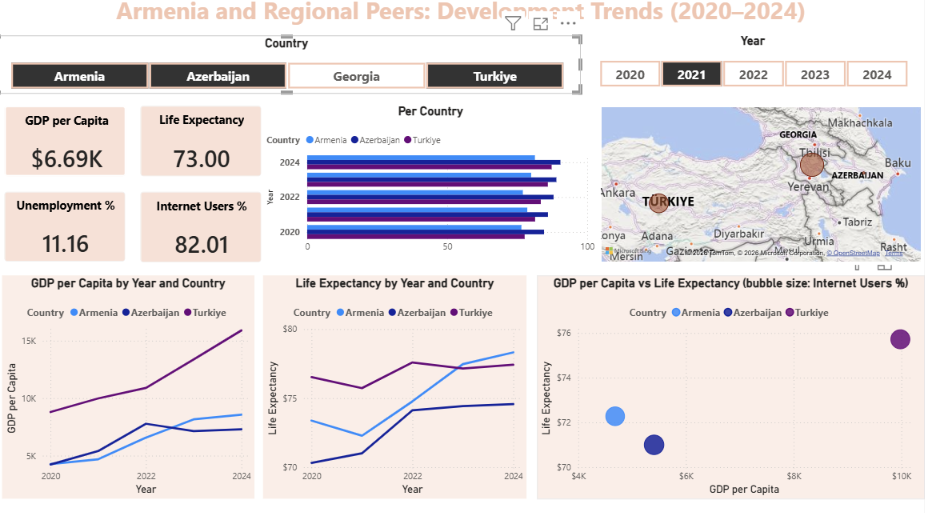

This screenshot's page, from the dashboard's own definition file:
{"tool":"powerbi","page":{"name":"Page 1","canvas":[1280,720],"ordinal":0},"visuals":[{"type":"slicer","title":"Country","fields":{"Values":["World Bank Country Year.country"]},"box":[0,61.7,808.3,80],"z":0},{"type":"slicer","title":"Year","fields":{"Values":["World Bank Country Year.year"]},"box":[808.3,58.3,471.7,80],"z":1000},{"type":"cardVisual","fields":{"Data":["Key Measure.GDP per Capita"]},"box":[0,141.7,201.7,131.7],"z":2000},{"type":"cardVisual","fields":{"Data":["Key Measure.Life Expectancy"]},"box":[186.7,141.7,200,131.7],"z":3000},{"type":"cardVisual","fields":{"Data":["Key Measure.Unemployment %"]},"box":[0,260,200,130],"z":4000},{"type":"cardVisual","fields":{"Data":["Key Measure.Internet Users %"]},"box":[186.7,260,200,131.7],"z":5000},{"type":"lineChart","fields":{"Y":["Key Measure.GDP per Capita"],"Category":["World Bank Country Year.year"],"Series":["World Bank Country Year.country"]},"box":[13.3,391.7,346.7,306.7],"z":6000},{"type":"lineChart","fields":{"Category":["World Bank Country Year.year"],"Y":["Key Measure.Life Expectancy"],"Series":["World Bank Country Year.country"]},"box":[371.7,391.7,361.7,306.7],"z":7000},{"type":"scatterChart","title":"GDP per Capita vs Life Expectancy (bubble size: Internet Users %)","fields":{"X":["Key Measure.GDP per Capita"],"Y":["Key Measure.Life Expectancy"],"Size":["Key Measure.Internet Users %"],"Series":["World Bank Country Year.country"]},"box":[748.3,391.7,531.7,306.7],"z":8000},{"type":"map","fields":{"Category":["World Bank Country Year.country"],"Size":["Key Measure.Unemployment %"]},"box":[831.7,155,448.3,221.7],"z":9000},{"type":"clusteredBarChart","title":"Per Country","fields":{"Y":["Key Measure.Internet Users %"],"Category":["World Bank Country Year.year"],"Series":["World Bank Country Year.country"]},"box":[371.7,155,460,215],"z":10000},{"type":"textbox","box":[26.7,0,1235,58.3],"z":10001}]}

Visuals, with their boxes in screenshot pixels (x1, y1, x2, y2), scaled from the page's 1280x720 canvas onto the 925x513 screenshot:
"Country" slicer: <box>0,44,584,101</box>
"Year" slicer: <box>584,42,924,99</box>
cardVisual - Key Measure.GDP per Capita: <box>0,101,146,195</box>
cardVisual - Key Measure.Life Expectancy: <box>135,101,279,195</box>
cardVisual - Key Measure.Unemployment %: <box>0,185,145,278</box>
cardVisual - Key Measure.Internet Users %: <box>135,185,279,279</box>
lineChart - Key Measure.GDP per Capita x World Bank Country Year.year: <box>10,279,260,498</box>
lineChart - World Bank Country Year.year x Key Measure.Life Expectancy: <box>269,279,530,498</box>
"GDP per Capita vs Life Expectancy (bubble size: Internet Users %)" scatterChart: <box>541,279,924,498</box>
map - World Bank Country Year.country x Key Measure.Unemployment %: <box>601,110,924,268</box>
"Per Country" clusteredBarChart: <box>269,110,601,264</box>
textbox: <box>19,0,912,42</box>
